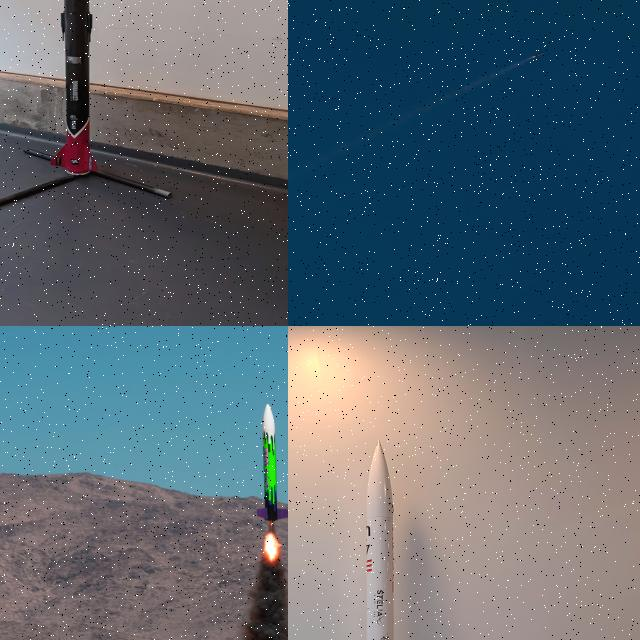Rocket: (50, 0, 98, 175), (366, 439, 394, 640), (255, 402, 288, 523), (531, 51, 545, 59)
